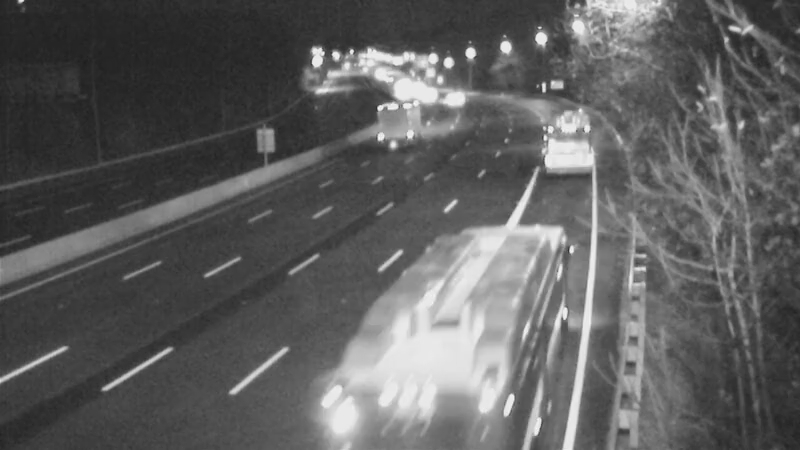vehicle: (397, 294, 507, 404), (375, 70, 425, 120), (398, 71, 448, 121), (425, 73, 475, 123), (531, 99, 581, 149), (374, 88, 424, 138)
